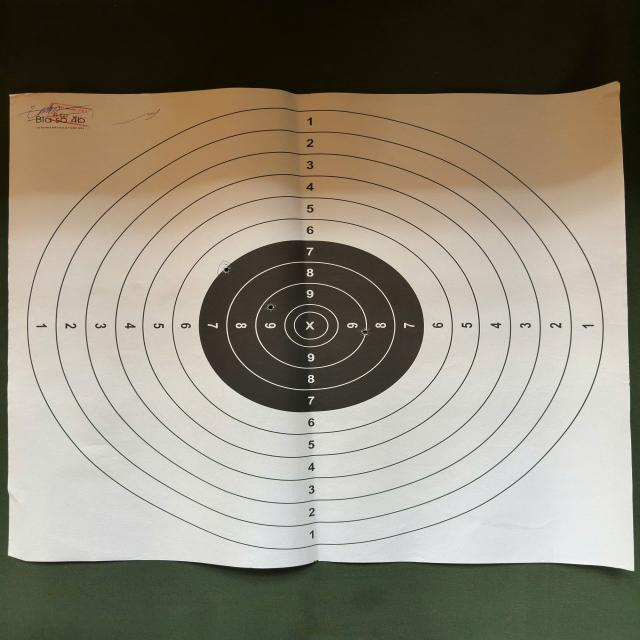bullet: (359, 328, 368, 337), (223, 266, 231, 274), (266, 304, 275, 310)
target: (9, 83, 633, 569)
